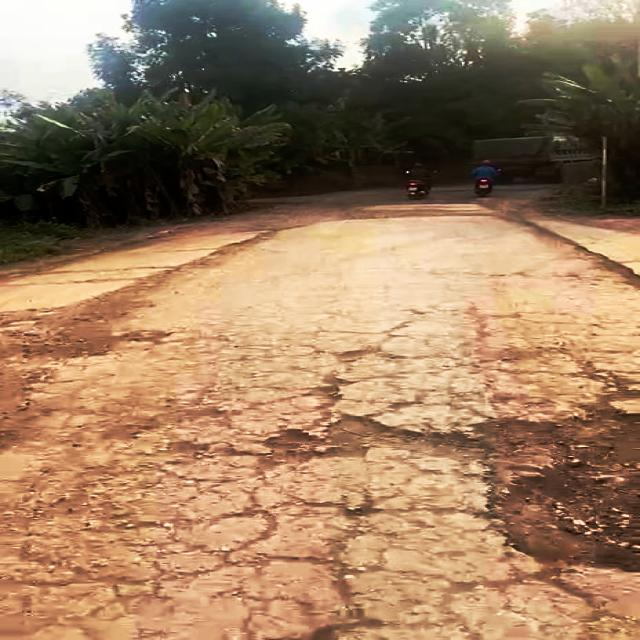pothole: (447, 390, 640, 574), (246, 404, 482, 470)
